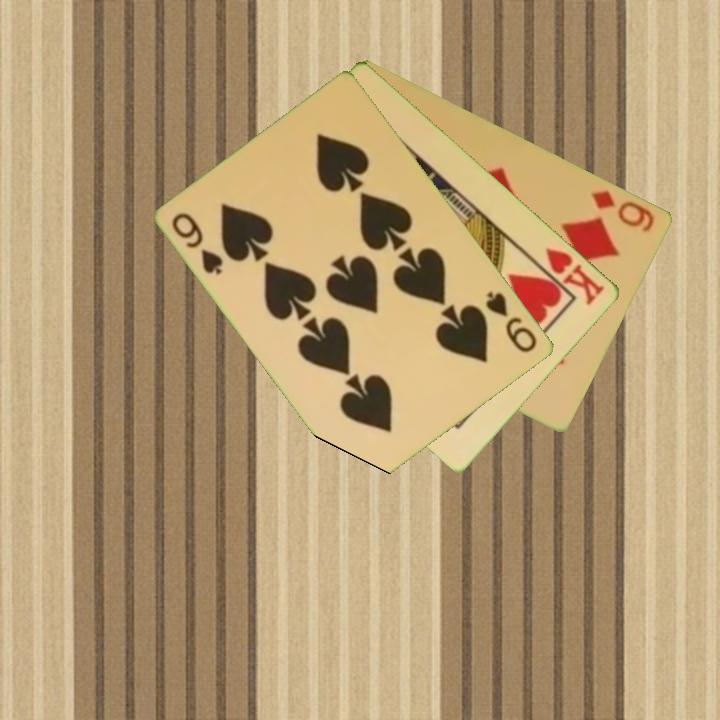6d: (588, 186, 658, 235)
9s: (168, 209, 227, 278), (482, 288, 541, 356)
Kh: (529, 244, 608, 308)
